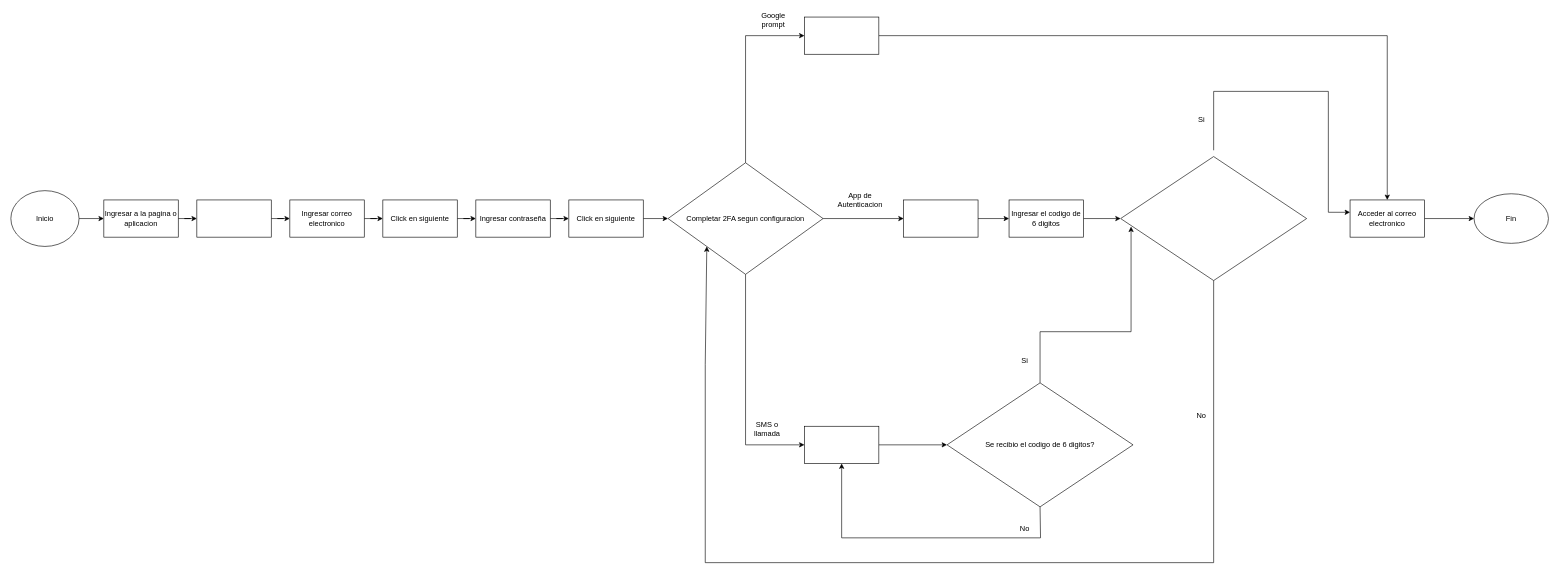
Some shapes in this 1559 by 574 pixel diagram are drawn without their labels. Here are the shapes that lost their labels. From the top down, the box of each, then its label:
(804, 16, 879, 54): presionar Si en la alerta del telefono
(196, 199, 271, 237): Click en iniciar sesion
(903, 199, 978, 237): Abrir la aplicacion
(1120, 156, 1307, 281): Se ingreso el codigo en el tiempo limite?
(804, 426, 879, 463): Recibir codigo por mensaje de texto o llamada
